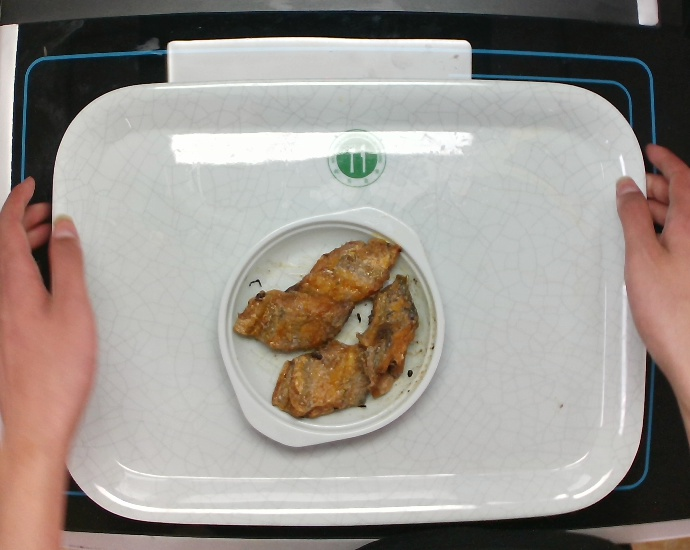JYsf-Shuang_Er_Pan: (214, 201, 449, 450)
